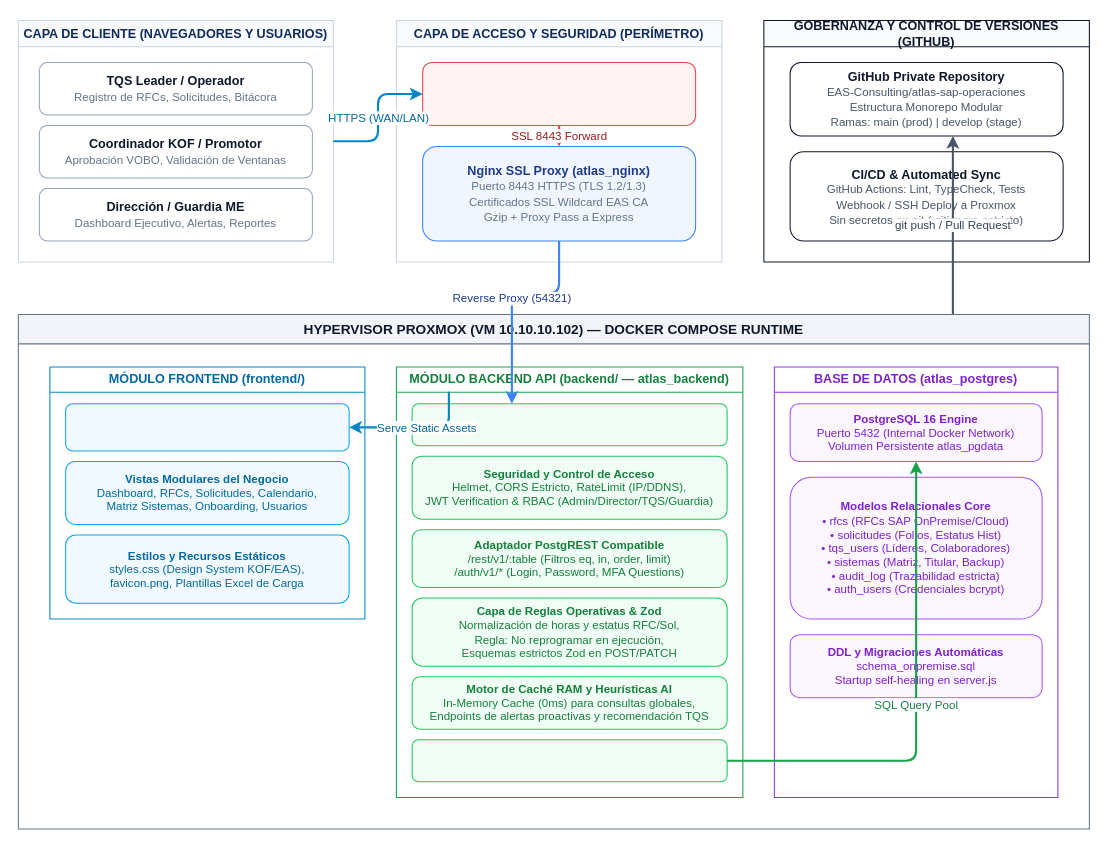
This 1108x847 diagram has some shape labels left out. The centre of each missing label's shape, as x and y in pixels:
FortiGate / DDNS easconsulting.fortiddns.com Mapeo WAN:8443 / WAN:54321: the point at 559,93
Pool PostgreSQL (pg.Pool) Conexión pooling persistente con reintentos: the point at 569,760
Servidor Express (server.js) Puerto 54321 / Node.js v20 Runtime: the point at 569,424
Single Page Application (SPA) index.html (Vanilla ES6+ Optimizado): the point at 207,427
